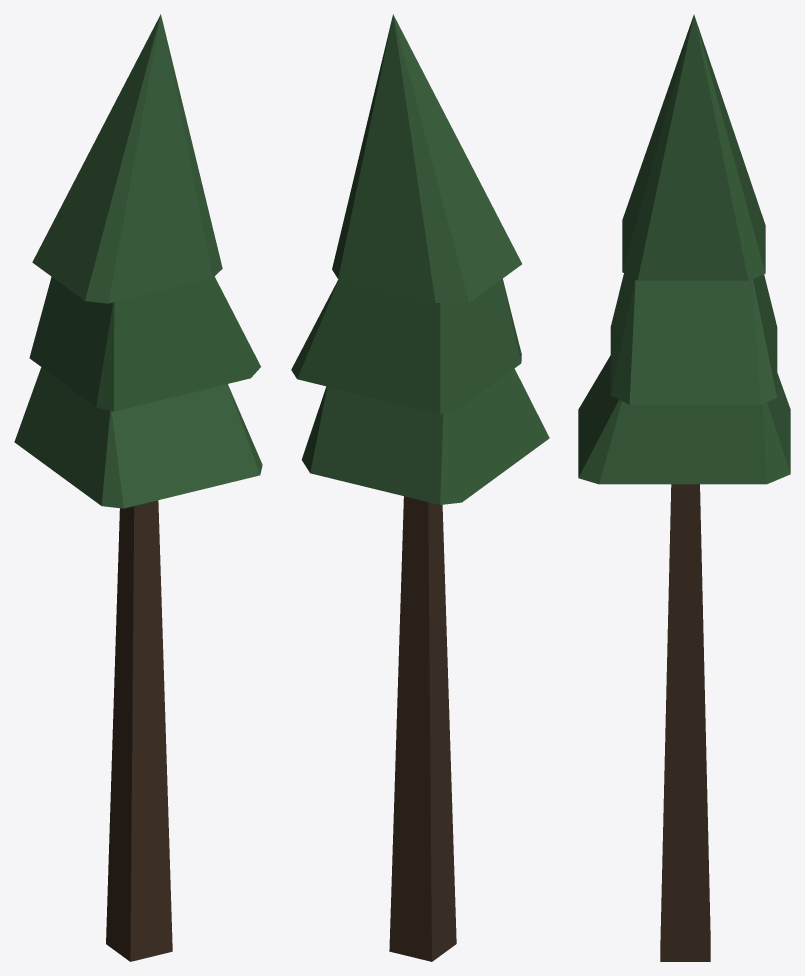
Rendered from nature-conifer-tall.glb.
The picture shows the model from 3 angles, left to right: view 1: azimuth 30°, elevation 25°; view 2: azimuth 150°, elevation 25°; view 3: azimuth 270°, elevation 25°; orthographic projection. The views are drawn at different scales.
Visible parts, largest first — view 1: tree_pineTallB; view 2: tree_pineTallB; view 3: tree_pineTallB.
Part boxes in pixels (x1,y1,x2,y2): tree_pineTallB: (14,14,262,961); tree_pineTallB: (291,14,549,961); tree_pineTallB: (578,14,790,961).
Bounding box in the file's own units: 0.3863 × 1.93 × 0.392.
